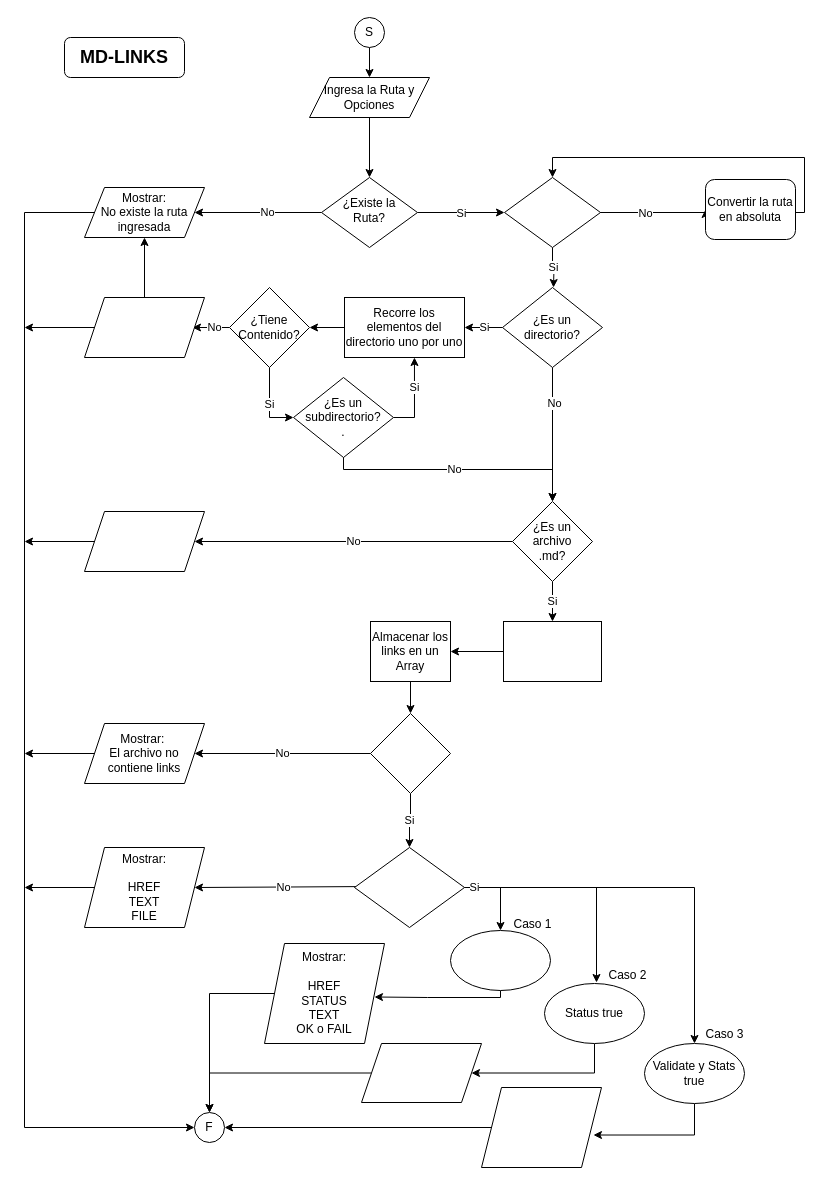
This 830x1185 diagram has some shape labels left out. The box of each missing label's shape, as (x1, y1, x2, y2) in pixels:
Mostrar : La ruta no tiene contenido: (84, 296, 204, 358)
Mostrar: No es un archivo markdown: (84, 510, 204, 572)
Mostrar: TOTAL UNIQUE: (360, 1042, 482, 1102)
Mostrar: TOTAL UNIQUE BROKEN: (480, 1086, 602, 1168)
Recorre el archivo .md y busca los links: (502, 620, 602, 682)
Validate true: (450, 930, 550, 990)
¿El Arreglo tiene Links?: (370, 712, 450, 794)
¿Es Absoluta?: (504, 176, 600, 248)
¿Se ingresaron opciones?: (354, 846, 464, 928)
